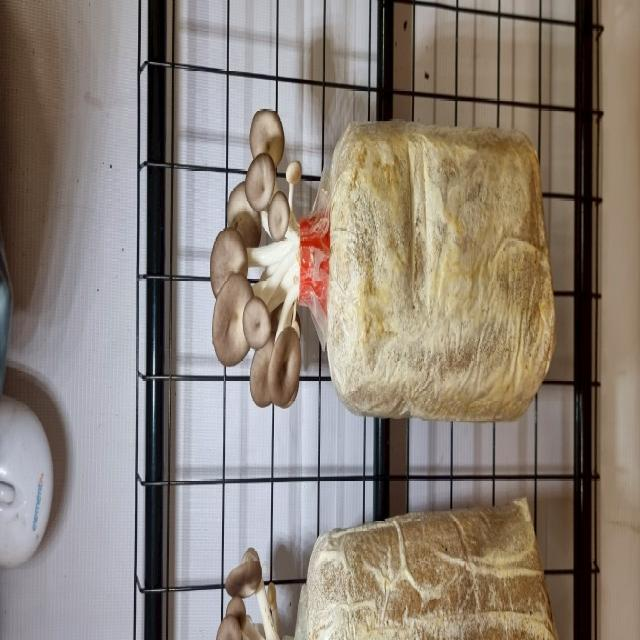normal: (211, 270, 257, 372), (268, 316, 304, 414), (207, 220, 248, 300), (249, 110, 293, 182)
